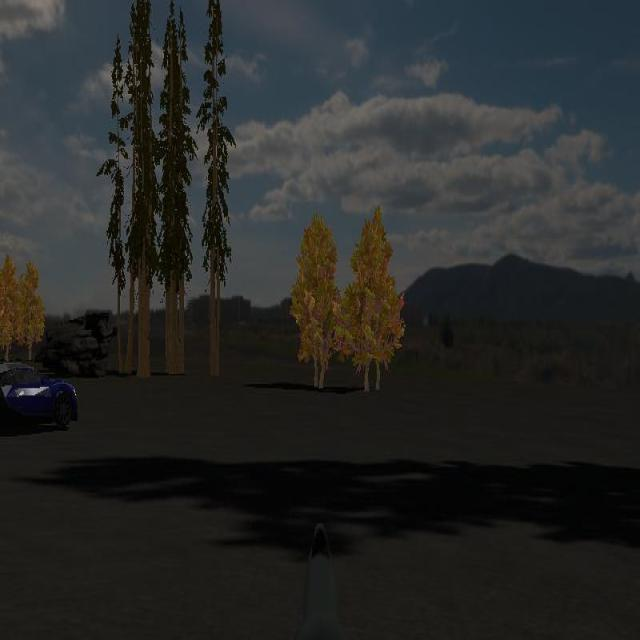car: (0, 362, 79, 436)
